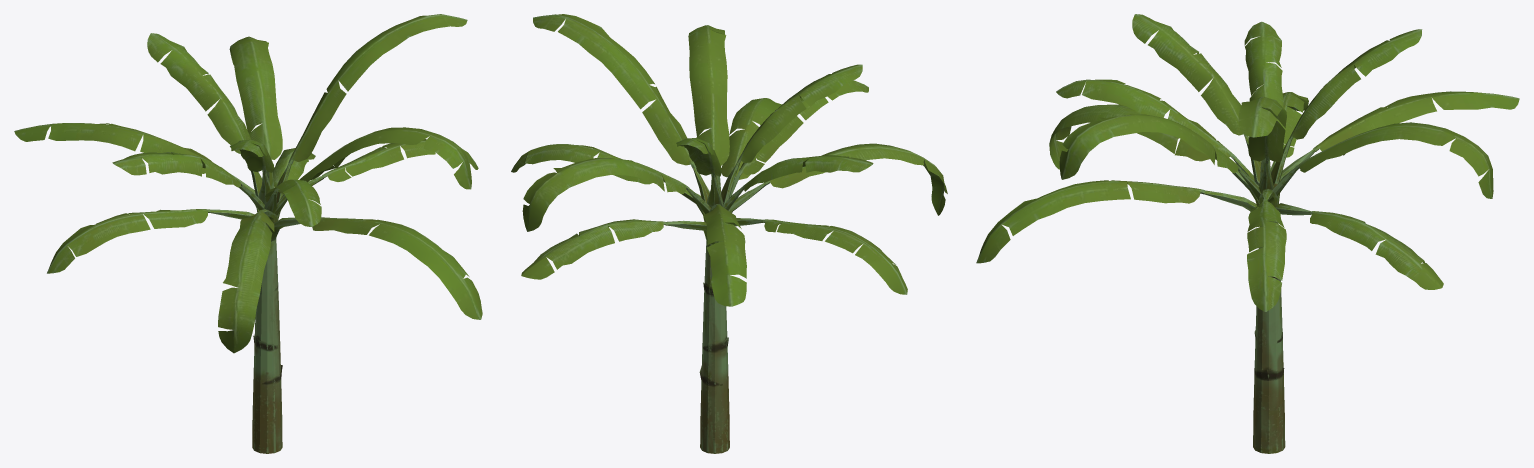
The model's file is banana_tree.glb.
The picture shows the model from 3 angles, left to right: view 1: azimuth 30°, elevation 25°; view 2: azimuth 150°, elevation 25°; view 3: azimuth 270°, elevation 25°; orthographic projection. The views are drawn at different scales.
Parts seen in each view (by area): view 1: BANANA_PLANT_lambert1_0; view 2: BANANA_PLANT_lambert1_0; view 3: BANANA_PLANT_lambert1_0.
Boxes of the visible parts, x1=… form: BANANA_PLANT_lambert1_0: x1=14, y1=14, x2=482, y2=453; BANANA_PLANT_lambert1_0: x1=511, y1=14, x2=947, y2=453; BANANA_PLANT_lambert1_0: x1=976, y1=14, x2=1519, y2=453.
Bounding box in the file's own units: 11.11 × 10.1 × 11.81.
1 material, 1 textured.
